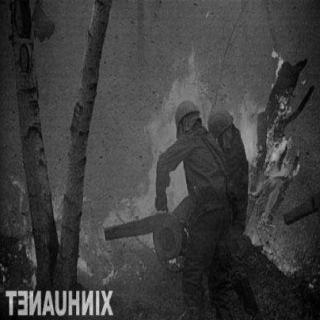Fire: (5, 38, 309, 298)
